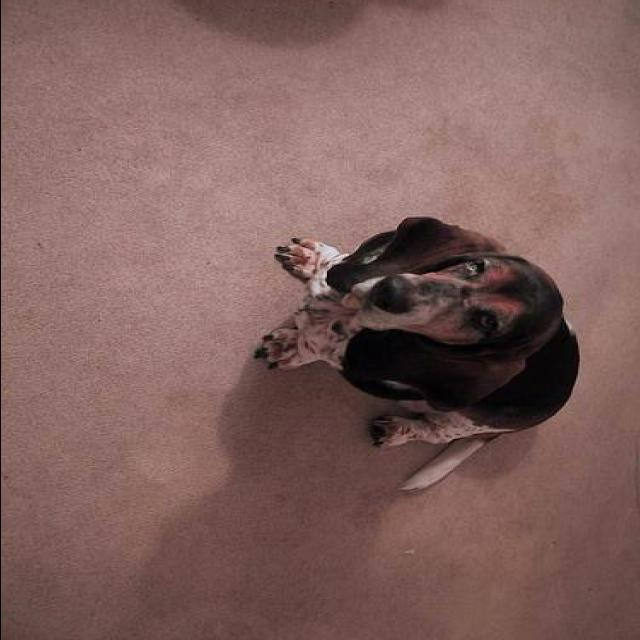basset: (250, 215, 580, 490)
